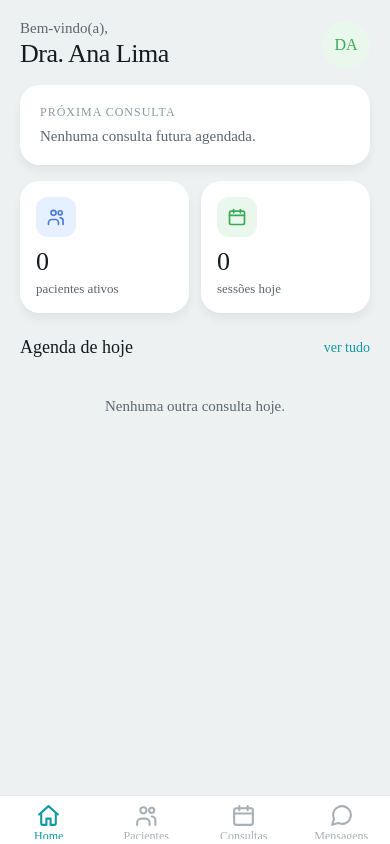
Test: Profissional — Alterar Senha (S5-08) › senha atual incorreta (400) fica na tela sem relogar
Click the button with test id "home-perfil" at (64, 28), box 20,20 -> 370,69
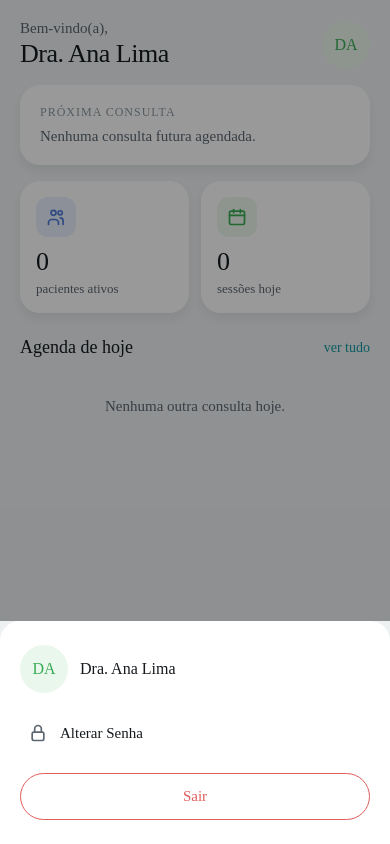
Click the button "Alterar Senha" at (101, 732), box 20,709 -> 370,757
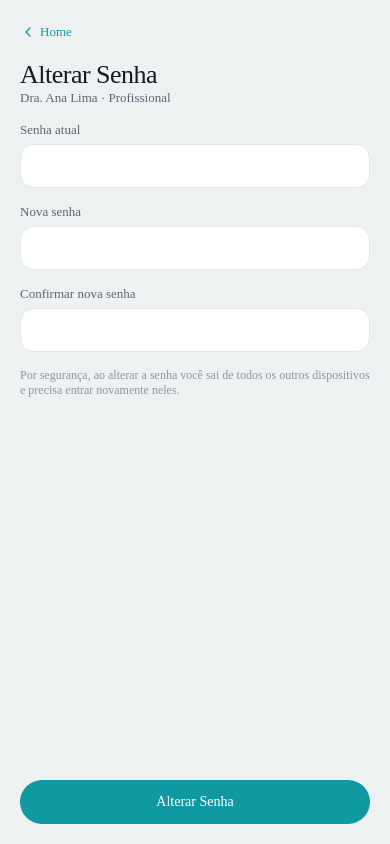
Expected: the heading "Alterar Senha" is shown, 20,60 -> 157,89
Type "errada-123" into the password field with test id "senha-senhaAtual" at (195, 166), box 20,144 -> 370,188
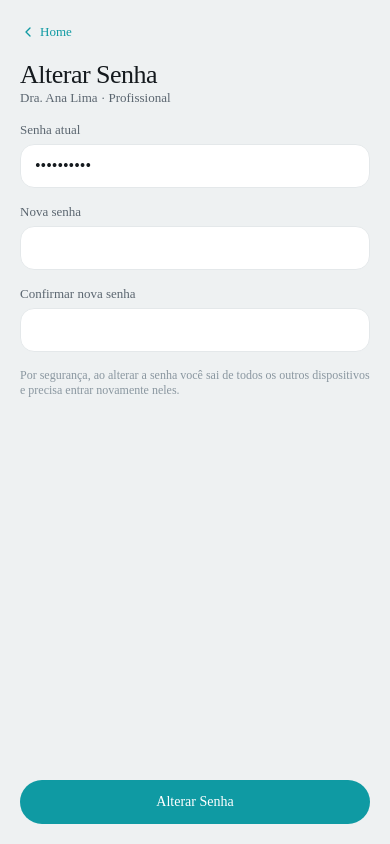
Type "senha-nova-123" into the password field with test id "senha-novaSenha" at (195, 248), box 20,226 -> 370,270
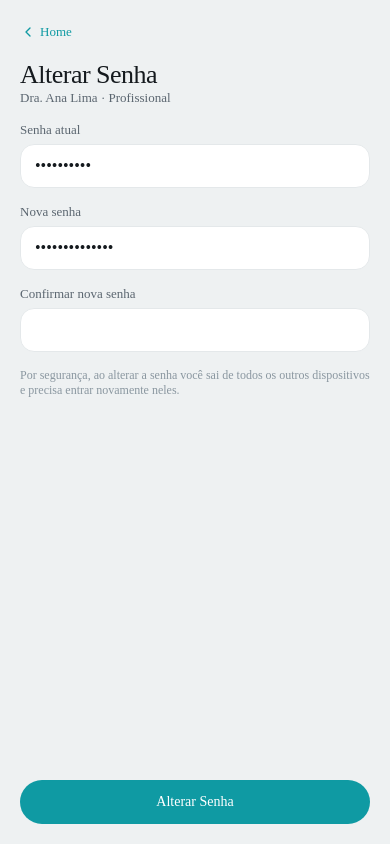
Type "senha-nova-123" into the password field with test id "senha-confirmarNovaSenha" at (195, 330), box 20,308 -> 370,352
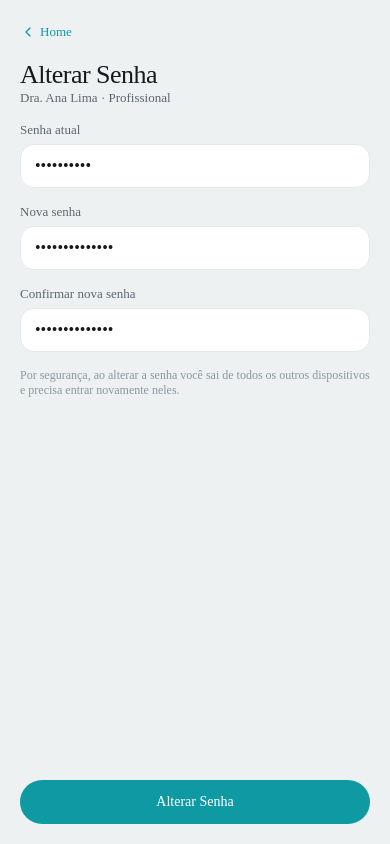
Click the button with test id "senha-enviar" at (195, 802), box 20,780 -> 370,824
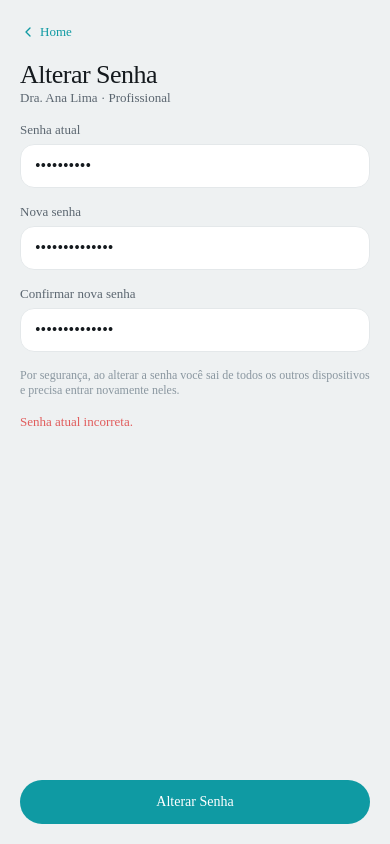
Expected: the message with test id "senha-erro" reads "Senha atual incorreta.", 20,414 -> 133,429
